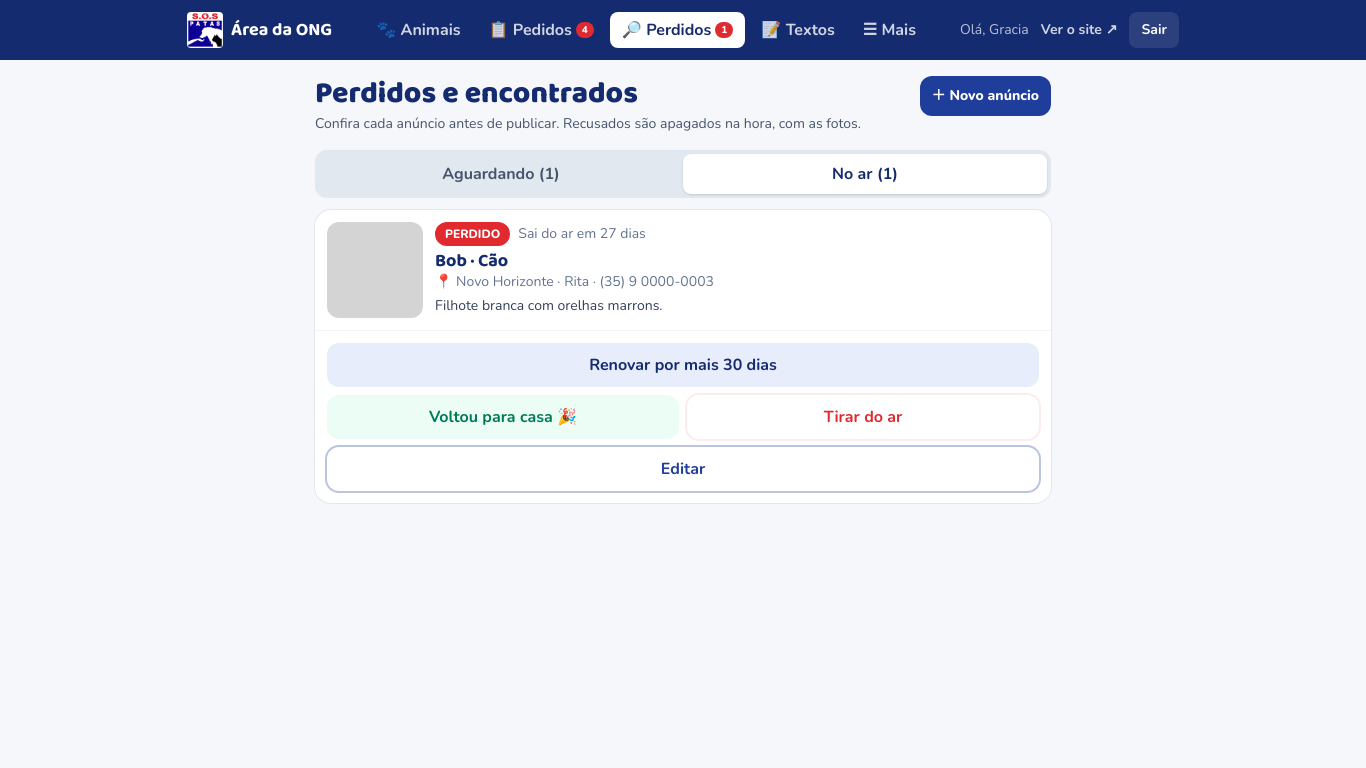
T14 · Moderar perdidos e encontrados › no ar: "Sai do ar em N dias", renovar, voltou para casa e tirar do ar (RN25, RN41)
The image size is (1366, 768).
expect the text "Sai do ar em 27 dias" is shown: met, box [518,224,646,242]
Click the button "Renovar por mais 30 dias": click(683, 364) [327,342,1039,386]
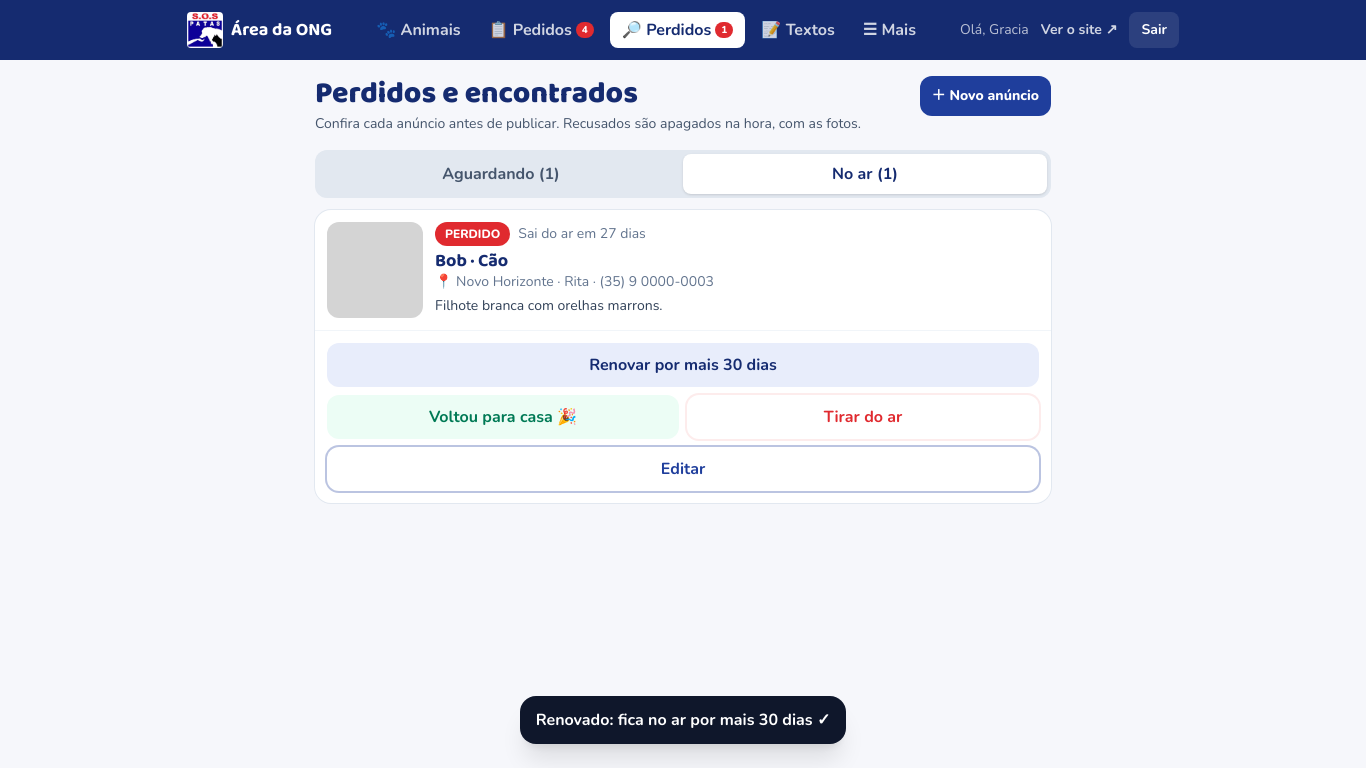
expect the text "Renovado: fica no ar por mais 30 dias ✓" is shown: met, box [520,696,846,744]
Click the button "Voltou para casa 🎉": click(503, 416) [327,394,679,438]
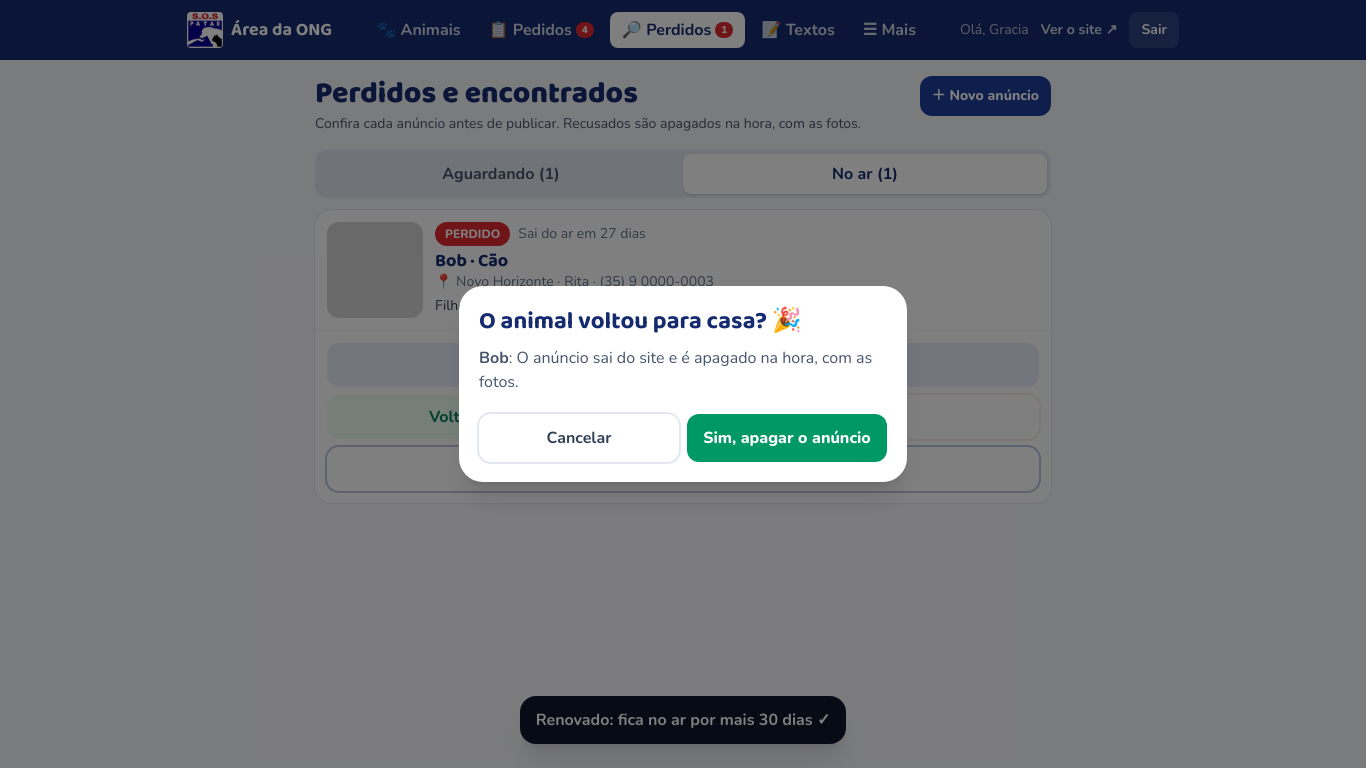
Click the button "Sim, apagar o anúncio": click(787, 438) [687,414,887,462]
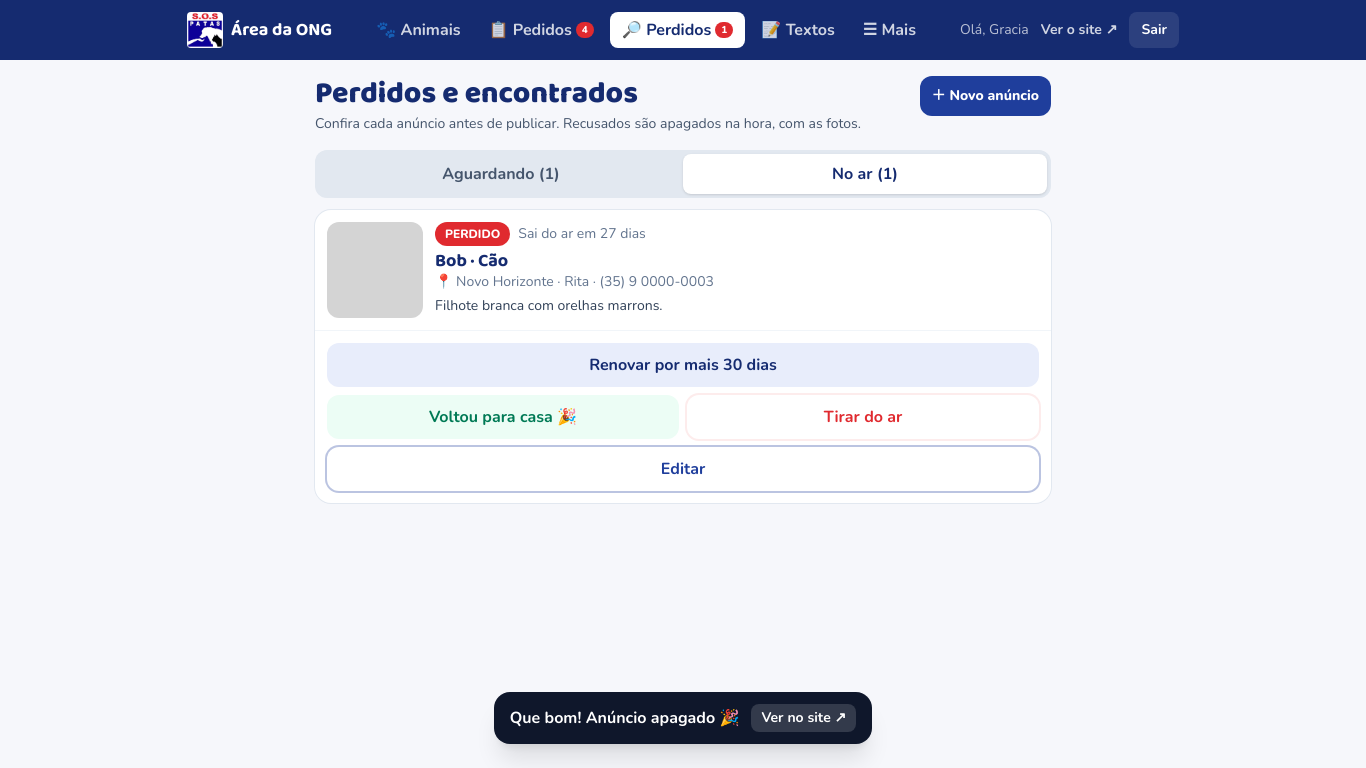
expect the text "Que bom! Anúncio apagado 🎉" is shown: met, box [510,707,739,729]
